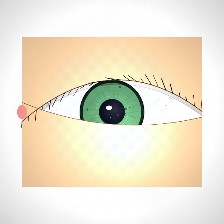pinguecula_lesion: (49, 107, 81, 133)
